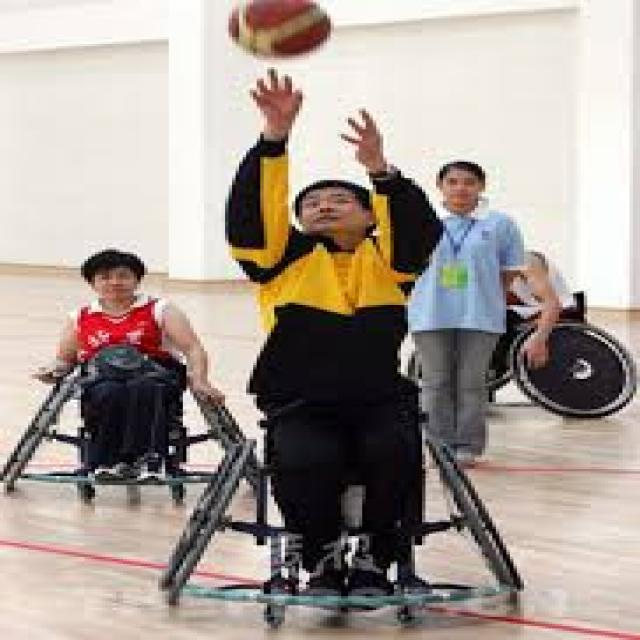wheelchairs: (148, 407, 556, 619), (0, 346, 257, 496)
